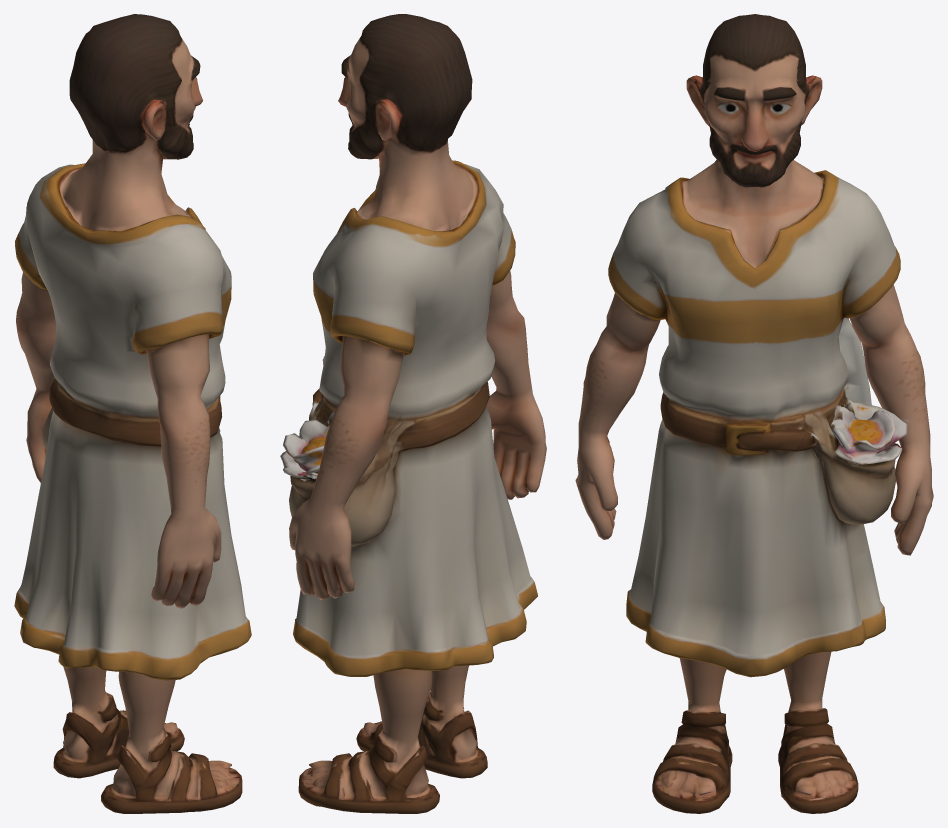
The model's file is char_doryseus_02_textured_8000.glb.
The picture shows the model from 3 angles, left to right: view 1: azimuth 30°, elevation 25°; view 2: azimuth 150°, elevation 25°; view 3: azimuth 270°, elevation 25°; orthographic projection.
Parts seen in each view (by area): view 1: base_model_path; view 2: base_model_path; view 3: base_model_path.
Boxes of the visible parts, bbox=[...] form: base_model_path: bbox=[14, 14, 251, 813]; base_model_path: bbox=[280, 14, 546, 813]; base_model_path: bbox=[575, 14, 933, 813].
Size of the model in its own units: 0.2524 by 1 by 0.4286.
Materials: 1 (1 with a texture image).
